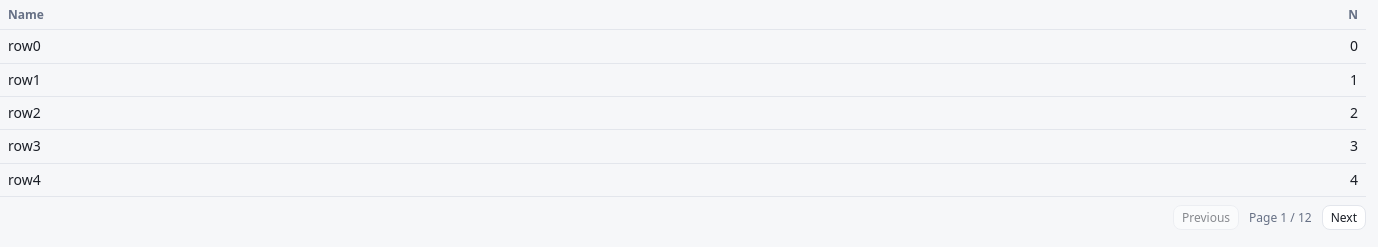
DataTable › sorts numerically, toggling direction
Click the button "N". click: (1353, 15)
box: [1348,6,1358,23]
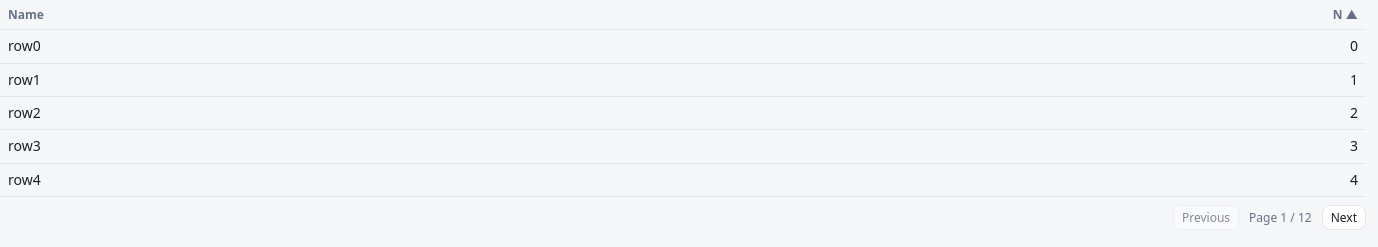
Expected: the row "row0 0" is shown, [0,30,1366,63]
Click the button "N ▲". click: (1345, 15)
box: [1333,6,1358,23]
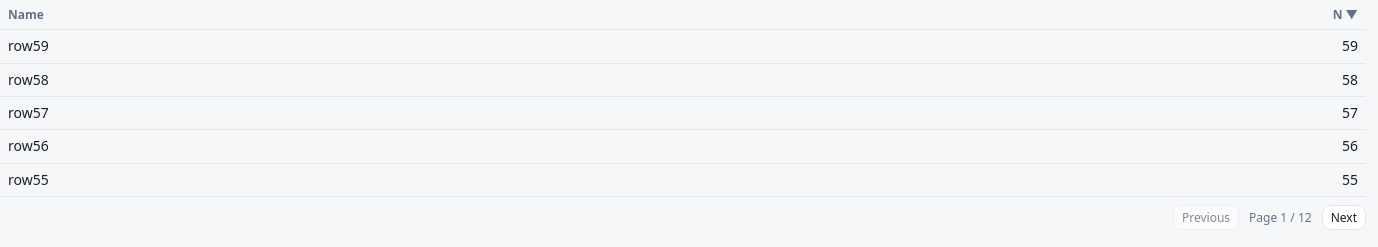
Result: the row "row59 59" is shown at [0,30,1366,63]
